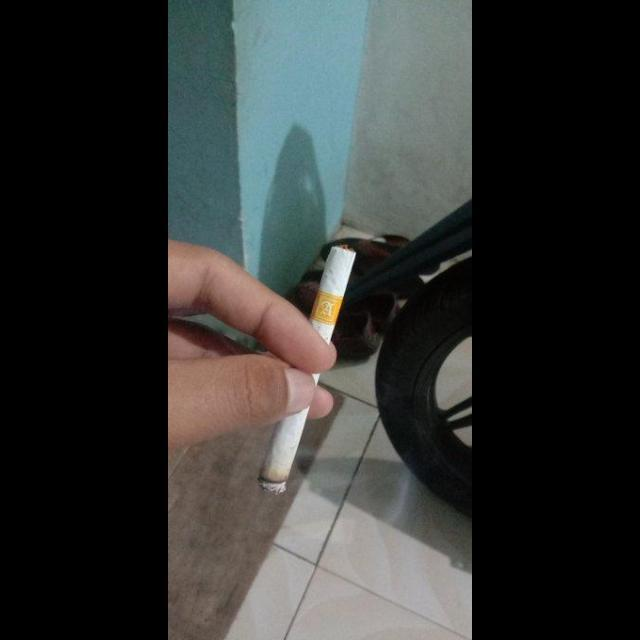rokok: (250, 239, 358, 495)
